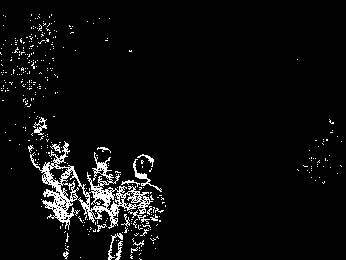person: (113, 153, 168, 259), (78, 147, 122, 260), (42, 141, 82, 259), (27, 113, 55, 171)
